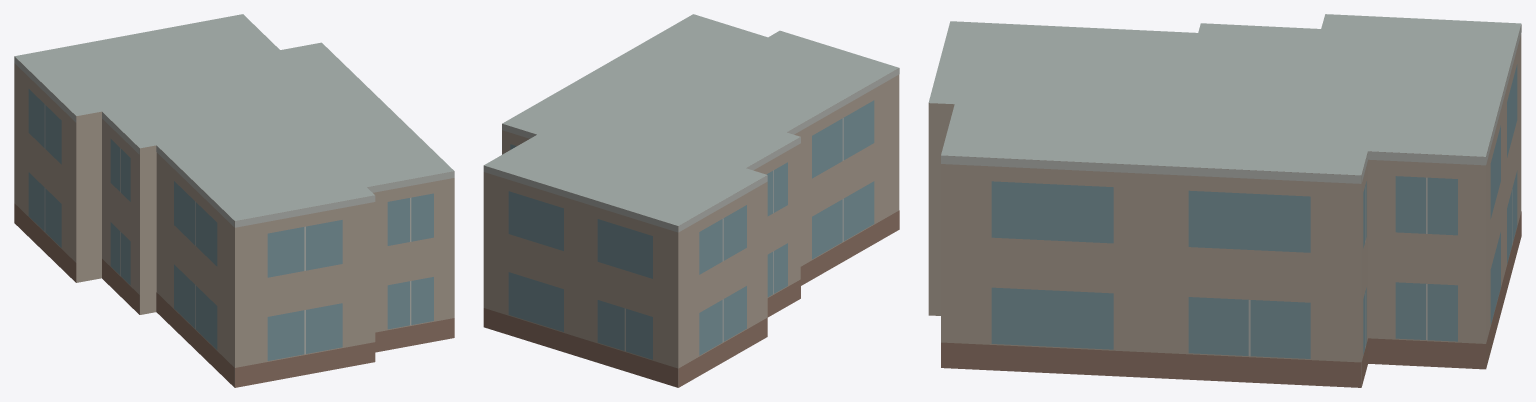
File: survey-upis-32674787.glb
3 views of the same model, side by side, from view 1: azimuth 30°, elevation 25°; view 2: azimuth 150°, elevation 25°; view 3: azimuth 270°, elevation 25° (orthographic). The views are drawn at different scales.
Visible parts, largest first — view 1: survey-upis-32674787.tmp; view 2: survey-upis-32674787.tmp; view 3: survey-upis-32674787.tmp.
Boxes of the visible parts, box(x1,y1,x2,y2) form: survey-upis-32674787.tmp: box(14, 14, 454, 387); survey-upis-32674787.tmp: box(483, 14, 899, 387); survey-upis-32674787.tmp: box(928, 14, 1521, 387).
Bounding box in the file's own units: 9.95 × 6.1 × 15.44.
